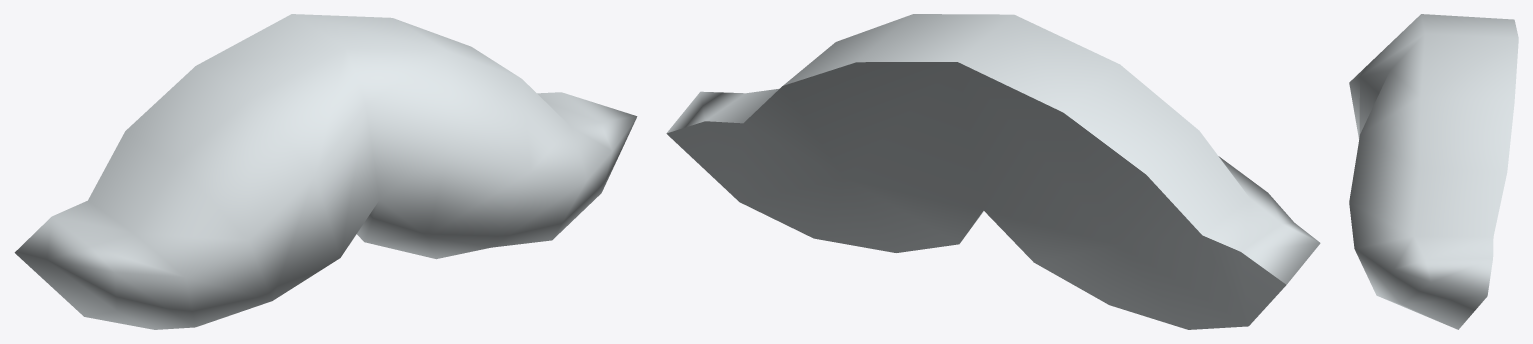
The model's file is Mustache_6.fbx.
3 renders of one model, left to right at view 1: azimuth 30°, elevation 25°; view 2: azimuth 150°, elevation 25°; view 3: azimuth 270°, elevation 25°, orthographic. The views are drawn at different scales.
Visible parts, largest first — view 1: Mustache_6; view 2: Mustache_6; view 3: Mustache_6.
Part boxes in pixels (x1=…): Mustache_6: x1=14, y1=14, x2=637, y2=329; Mustache_6: x1=666, y1=14, x2=1320, y2=329; Mustache_6: x1=1349, y1=14, x2=1518, y2=329.
Bounding box in the file's own units: 25.76 × 10.32 × 7.4.
